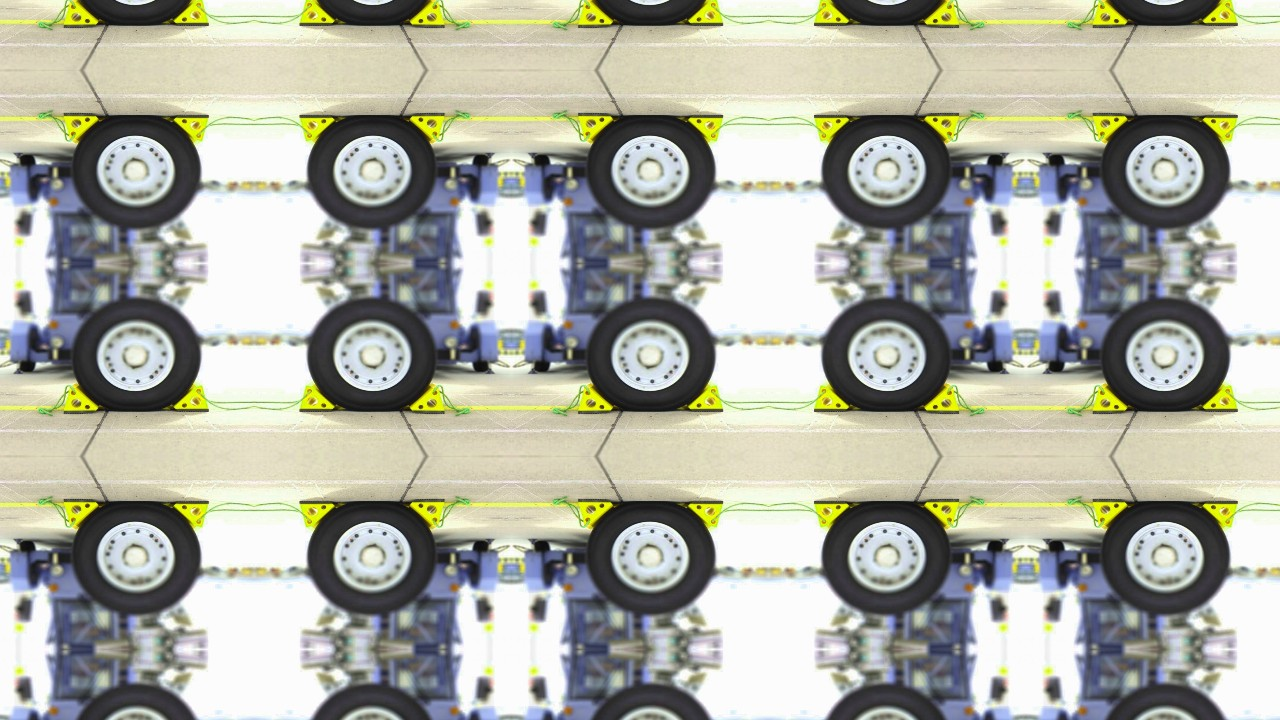chock: (170, 380, 209, 412), (298, 380, 337, 412), (685, 380, 724, 412), (813, 380, 852, 412), (1200, 380, 1239, 412), (170, 501, 209, 533), (298, 501, 337, 533), (685, 501, 724, 533), (813, 501, 852, 533), (1200, 501, 1239, 533), (170, 115, 209, 146), (62, 113, 101, 144), (298, 115, 337, 146), (406, 113, 445, 144), (685, 115, 724, 146), (577, 113, 616, 144), (813, 115, 852, 146), (921, 113, 960, 144), (1200, 115, 1239, 146), (1092, 113, 1131, 144), (62, 383, 101, 413), (406, 383, 445, 413), (577, 383, 616, 413), (921, 383, 960, 413), (1092, 383, 1131, 413), (62, 500, 101, 530), (406, 500, 445, 530), (577, 500, 616, 530), (921, 500, 960, 530), (1092, 500, 1131, 530), (62, 0, 101, 27), (406, 0, 445, 27), (577, 0, 616, 27), (921, 0, 960, 27), (1092, 0, 1131, 27), (170, 0, 209, 25), (298, 0, 337, 25), (685, 0, 724, 25), (813, 0, 852, 25), (1200, 0, 1239, 25)
wheel: (308, 297, 434, 412), (823, 297, 949, 412), (308, 501, 434, 616), (823, 501, 949, 616), (74, 297, 199, 412), (589, 297, 714, 412), (1104, 297, 1229, 412), (74, 501, 199, 616), (589, 501, 714, 616), (1104, 501, 1229, 616), (308, 115, 434, 229), (823, 115, 949, 229), (74, 115, 199, 229), (589, 115, 714, 229), (1104, 115, 1229, 229), (308, 684, 434, 720), (823, 684, 949, 720), (74, 684, 199, 720), (589, 684, 714, 720), (1104, 684, 1229, 720), (308, 0, 434, 25), (823, 0, 949, 25), (74, 0, 199, 25), (589, 0, 714, 25), (1104, 0, 1229, 25), (19, 155, 35, 166), (534, 155, 550, 166), (1049, 155, 1065, 166), (19, 361, 35, 372), (534, 361, 550, 372), (1049, 361, 1065, 372), (19, 541, 35, 552), (534, 541, 550, 552), (1049, 541, 1065, 552), (473, 155, 488, 166), (988, 155, 1003, 166), (473, 361, 488, 372), (988, 361, 1003, 372), (473, 541, 488, 552), (988, 541, 1003, 552)
